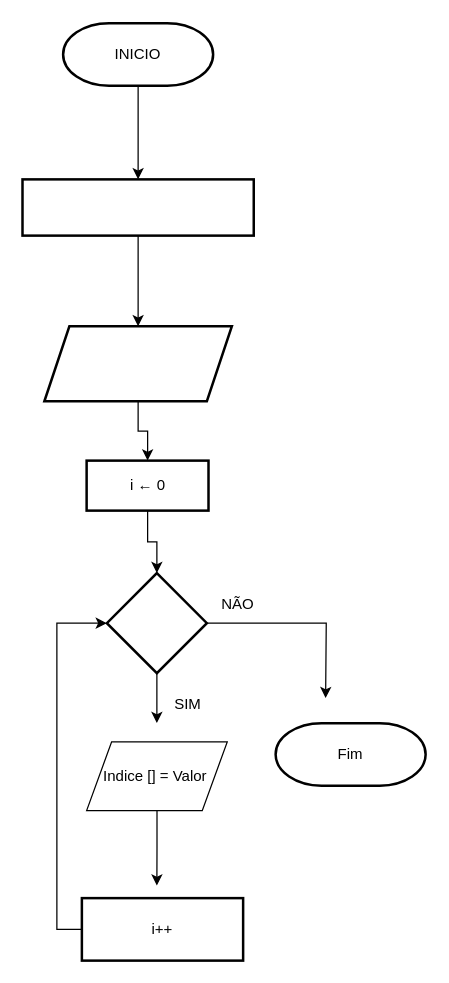
Some shapes in this 449 by 983 pixel diagram are drawn without their labels. The centre of each missing label's shape, as x and y in pixels:
"Exibindo elementos do array" belongs at (137,363).
"i < 5 ?" belongs at (156,622).
"numeros[5] = {10,20,30,40,50};" belongs at (137,207).
